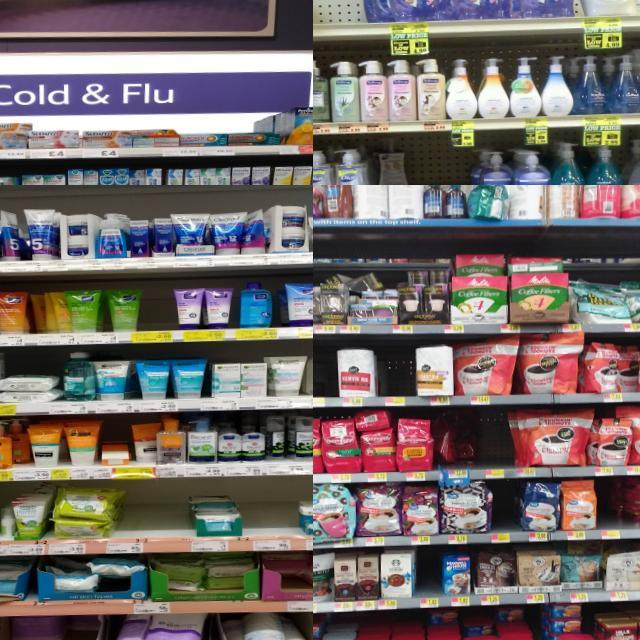empty: (120, 478, 188, 552), (241, 475, 297, 550), (406, 137, 471, 185), (140, 279, 176, 342), (380, 349, 415, 407), (478, 411, 508, 478), (313, 0, 364, 37), (490, 480, 517, 543), (418, 546, 442, 608), (597, 477, 620, 540), (313, 348, 337, 407)
